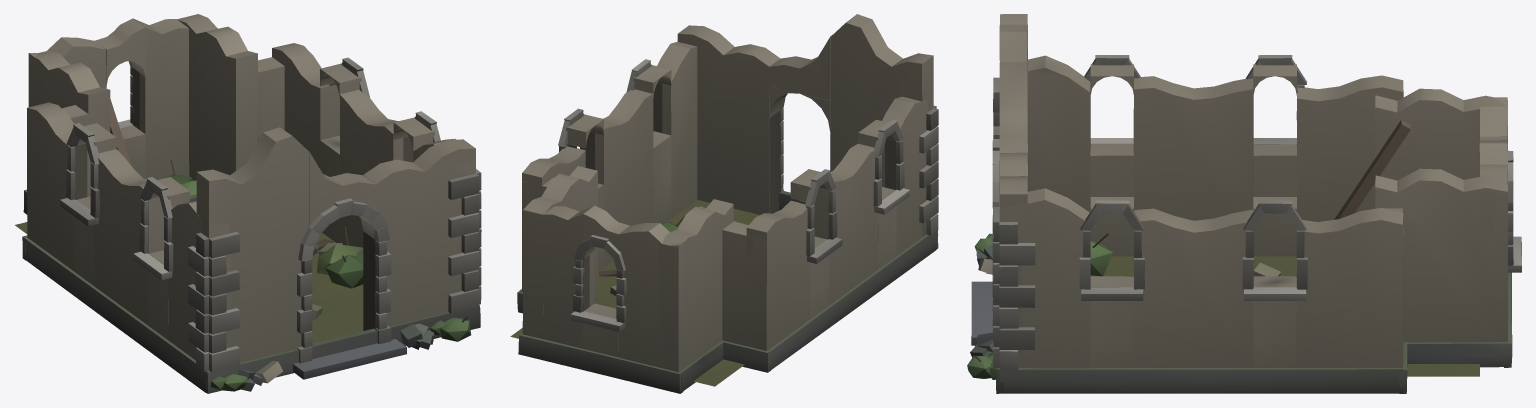
File: ph_bld_chapel_ruin.glb
The picture shows the model from 3 angles, left to right: view 1: azimuth 30°, elevation 25°; view 2: azimuth 150°, elevation 25°; view 3: azimuth 270°, elevation 25°; orthographic projection. The views are drawn at different scales.
Visible parts, largest first — view 1: ph_bld_chapel_ruin; view 2: ph_bld_chapel_ruin; view 3: ph_bld_chapel_ruin.
Part boxes in pixels (x1,y1,x2,y2): ph_bld_chapel_ruin: [15, 14, 481, 393]; ph_bld_chapel_ruin: [510, 14, 938, 393]; ph_bld_chapel_ruin: [967, 14, 1521, 393].
Bounding box in the file's own units: 4.77 × 3.82 × 7.15.
